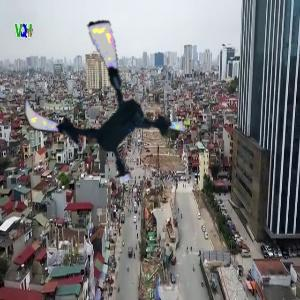drone: (24, 23, 186, 185)
